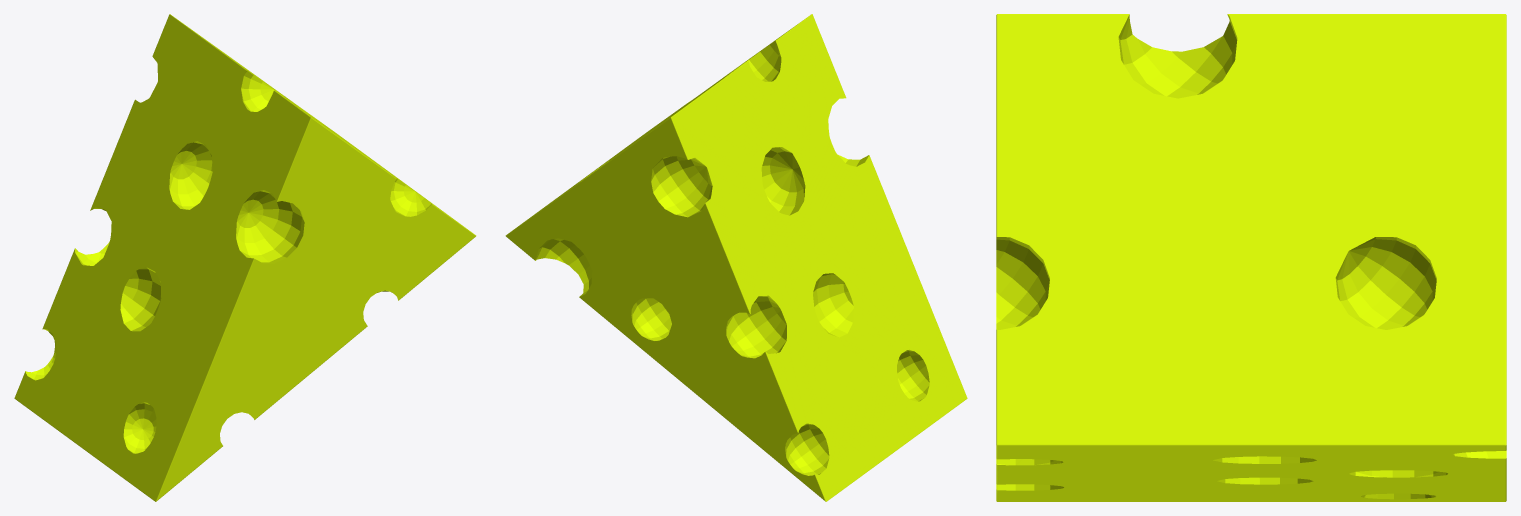
Rendered from Cheese_Big.glb.
3 renders of one model, left to right at view 1: azimuth 30°, elevation 25°; view 2: azimuth 150°, elevation 25°; view 3: azimuth 270°, elevation 25°, orthographic. The views are drawn at different scales.
Bounding box in the file's own units: 1.35 × 1.39 × 1.03.
